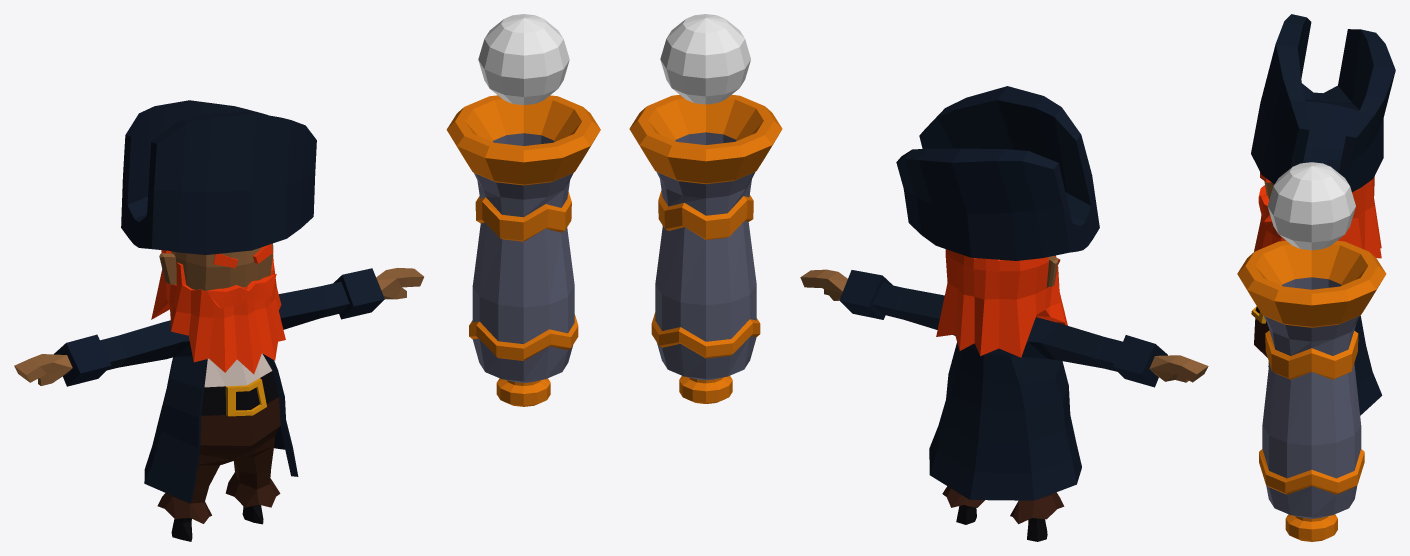
File: Redhead_Beard.FBX
3 renders of one model, left to right at view 1: azimuth 30°, elevation 25°; view 2: azimuth 150°, elevation 25°; view 3: azimuth 270°, elevation 25°, orthographic. The views are drawn at different scales.
Visible parts, largest first — view 1: Redhead_Beard, Cannon, Cannon_Ball; view 2: Redhead_Beard, Cannon, Cannon_Ball; view 3: Cannon, Redhead_Beard, Cannon_Ball.
Part boxes in pixels (x1,y1,x2,y2): Redhead_Beard: (14, 100, 423, 541); Cannon: (446, 95, 600, 406); Cannon_Ball: (478, 14, 569, 104); Redhead_Beard: (800, 86, 1208, 541); Cannon: (629, 94, 782, 403); Cannon_Ball: (660, 14, 750, 104); Cannon: (1237, 240, 1386, 541); Redhead_Beard: (1251, 14, 1395, 415); Cannon_Ball: (1267, 162, 1355, 250).
Bounding box in the file's own units: 102 × 74.57 × 25.36.
